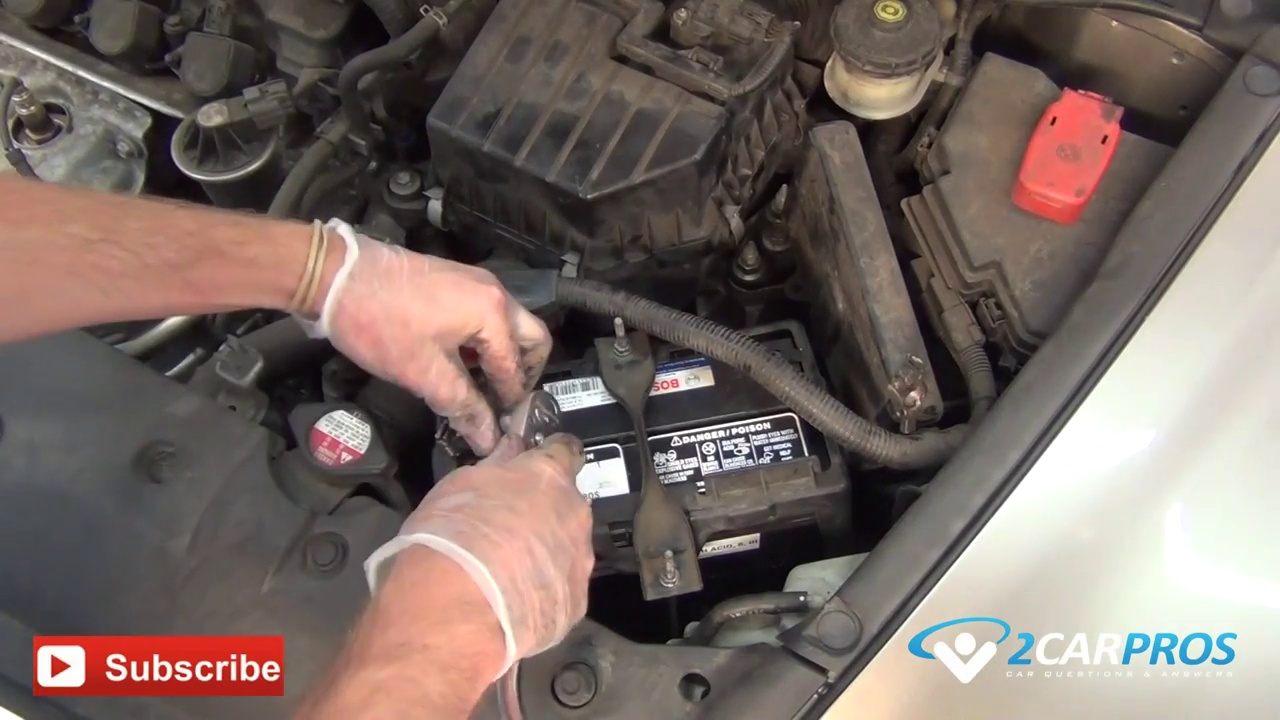battery: (454, 326, 838, 538)
